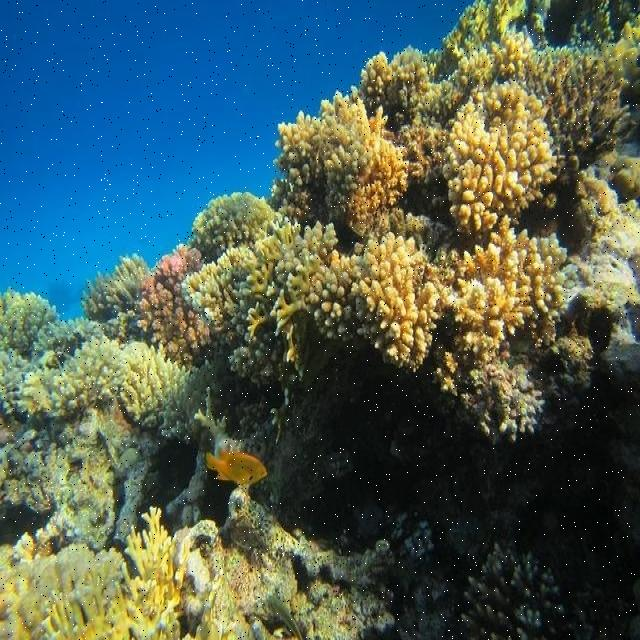fish: (207, 449, 267, 486)
reefs: (271, 85, 409, 236), (39, 506, 189, 638), (440, 216, 568, 361), (308, 233, 438, 372), (444, 82, 558, 237), (239, 221, 339, 379), (461, 540, 565, 639), (117, 343, 211, 441), (141, 245, 214, 365), (183, 246, 253, 345), (191, 195, 281, 253), (54, 335, 123, 410), (358, 48, 430, 117), (81, 255, 149, 321), (1, 293, 58, 353)
